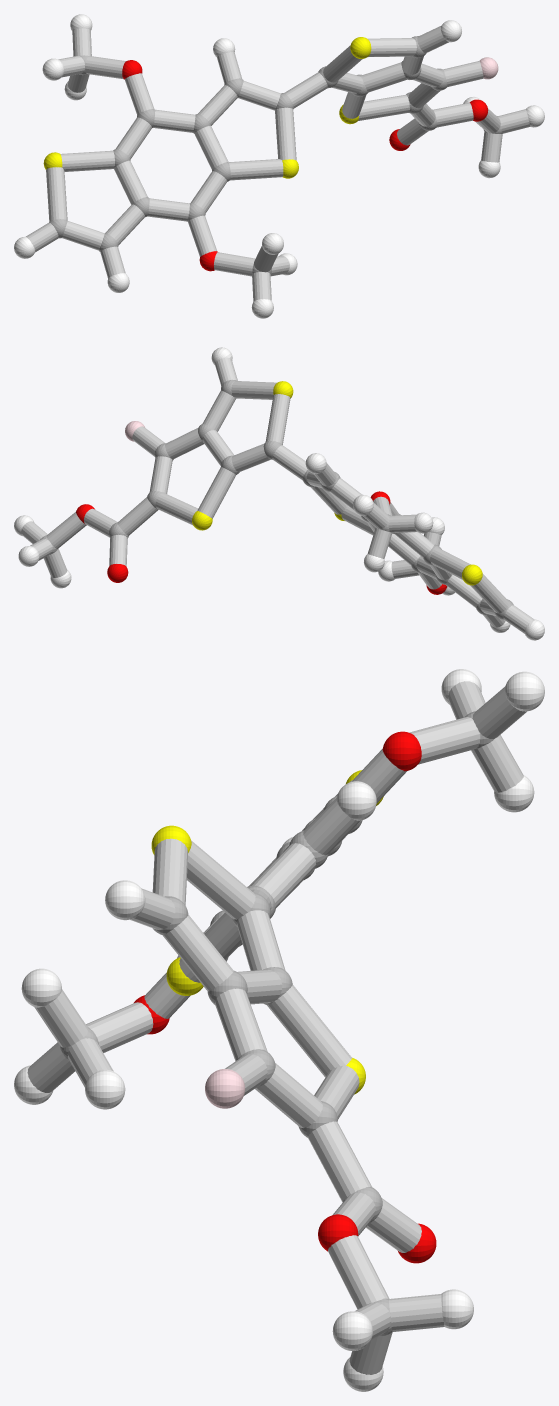
Rendered from Dimethoxy_Benzodithiophene_Phi_20_Theta_80_Methylcarbonyl_3_Fluoro_Thienothiophene.glb.
The picture shows the model from 3 angles, top to bottom: view 1: azimuth 30°, elevation 25°; view 2: azimuth 150°, elevation 25°; view 3: azimuth 270°, elevation 25°; orthographic projection. The views are drawn at different scales.
Parts seen in each view (by area): view 1: grp15205, grp8689, grp1, grp13395, grp7241; view 2: grp15205, grp8689, grp1, grp7241, grp13395; view 3: grp15205, grp8689, grp1, grp13395, grp7241, grp14843.
Boxes of the visible parts, <box> form: grp15205: <box>26,26,530,301</box>; grp8689: <box>14,14,544,318</box>; grp1: <box>49,36,502,273</box>; grp13395: <box>122,60,488,271</box>; grp7241: <box>43,37,371,178</box>; grp15205: <box>21,357,534,633</box>; grp8689: <box>14,347,544,640</box>; grp1: <box>40,379,513,619</box>; grp7241: <box>192,381,482,585</box>; grp13395: <box>76,491,446,594</box>; grp15205: <box>27,681,526,1374</box>; grp8689: <box>14,669,544,1391</box>; grp1: <box>60,711,494,1335</box>; grp13395: <box>134,731,436,1263</box>; grp7241: <box>151,770,383,1094</box>; grp14843: <box>205,1069,245,1108</box>.
Bounding box in the file's own units: 16.91 × 6.84 × 7.91.
